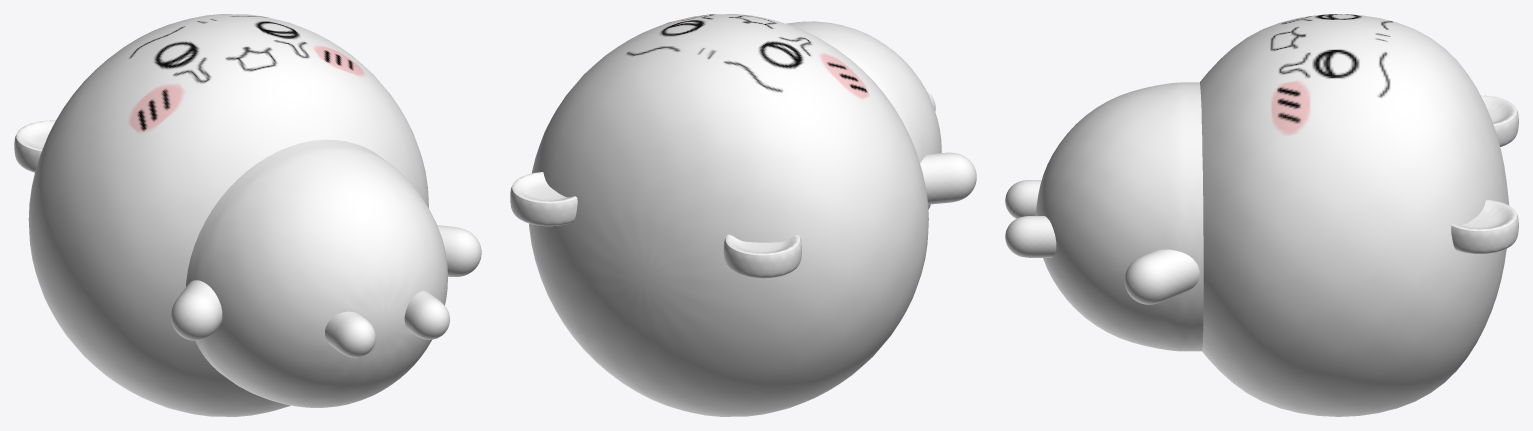
3 renders of one model, left to right at view 1: azimuth 30°, elevation 25°; view 2: azimuth 150°, elevation 25°; view 3: azimuth 270°, elevation 25°, orthographic.
Visible parts, largest first — view 1: Sphere, Capsule.2, Capsule.3, Capsule, Capsule.1, Capsule.4, Disc; view 2: Sphere, Capsule.2, Disc, Disc.1, Capsule.3; view 3: Sphere, Capsule.2, Capsule.4, Disc.1, Capsule.1, Disc, Capsule.
Boxes of the visible parts, left/top/right/bottom form: Sphere: left=28, top=14, right=428, bottom=416; Capsule.2: left=186, top=139, right=447, bottom=407; Capsule.3: left=171, top=280, right=222, bottom=340; Capsule: left=325, top=311, right=375, bottom=357; Capsule.1: left=404, top=291, right=449, bottom=339; Capsule.4: left=437, top=225, right=481, bottom=276; Disc: left=14, top=120, right=55, bottom=172; Sphere: left=529, top=14, right=928, bottom=416; Capsule.2: left=786, top=21, right=941, bottom=209; Disc: left=723, top=234, right=801, bottom=278; Disc.1: left=510, top=172, right=577, bottom=226; Capsule.3: left=920, top=152, right=976, bottom=204; Sphere: left=1200, top=14, right=1509, bottom=416; Capsule.2: left=1035, top=82, right=1203, bottom=351; Capsule.4: left=1124, top=249, right=1199, bottom=304; Disc.1: left=1451, top=200, right=1518, bottom=253; Capsule.1: left=1005, top=216, right=1056, bottom=257; Disc: left=1481, top=95, right=1518, bottom=146; Capsule: left=1005, top=180, right=1041, bottom=218.
Size of the model in its own units: 134 by 134 by 170.
Materials: 2 (1 with a texture image).
